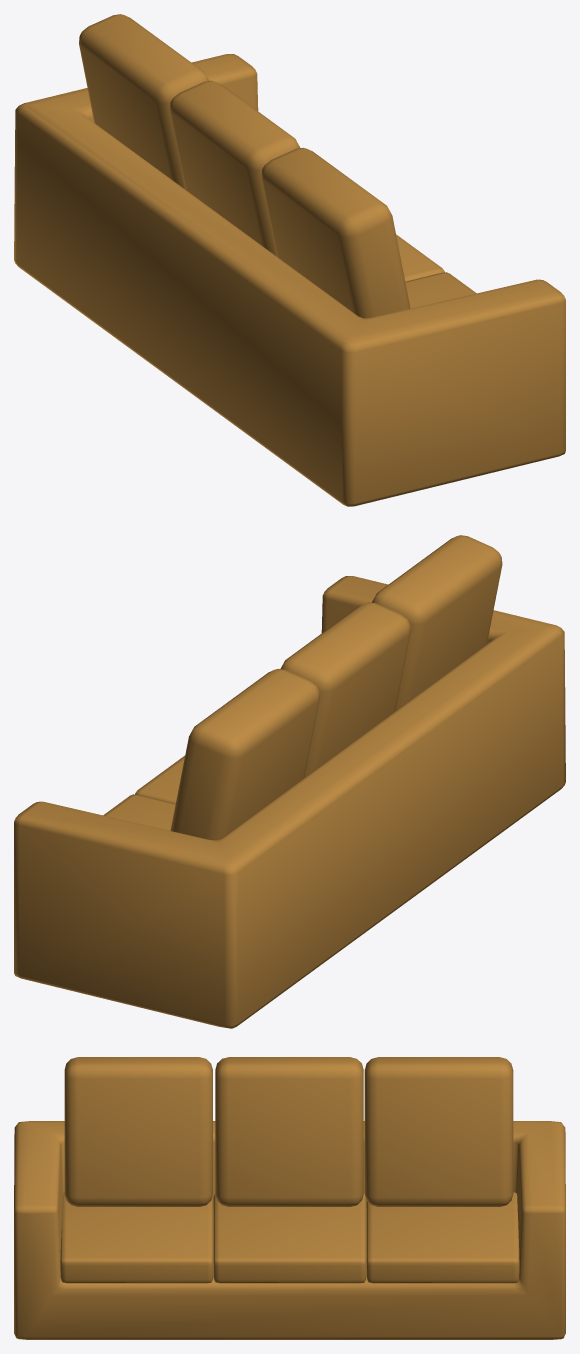
Rendered from Couch3.fbx.
The picture shows the model from 3 angles, top to bottom: view 1: azimuth 30°, elevation 25°; view 2: azimuth 150°, elevation 25°; view 3: azimuth 270°, elevation 25°; orthographic projection. The views are drawn at different scales.
Parts seen in each view (by area): view 1: Couch3; view 2: Couch3; view 3: Couch3.
Boxes of the visible parts, x1,y1,x2,y2 form: Couch3: [14, 14, 565, 506]; Couch3: [14, 535, 565, 1028]; Couch3: [14, 1057, 565, 1339].
Size of the model in its own units: 1.18 by 3.06 by 1.32.
